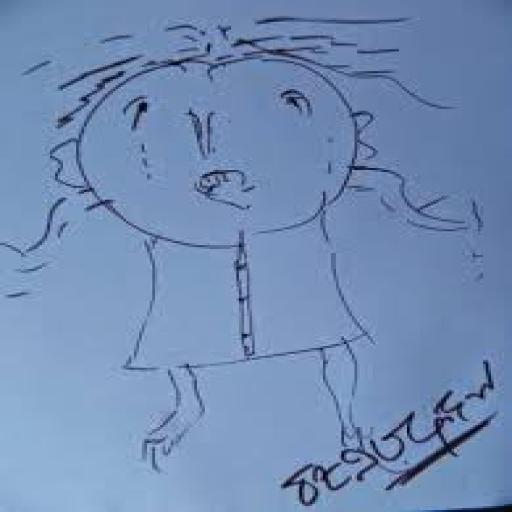person: (44, 11, 454, 472)
